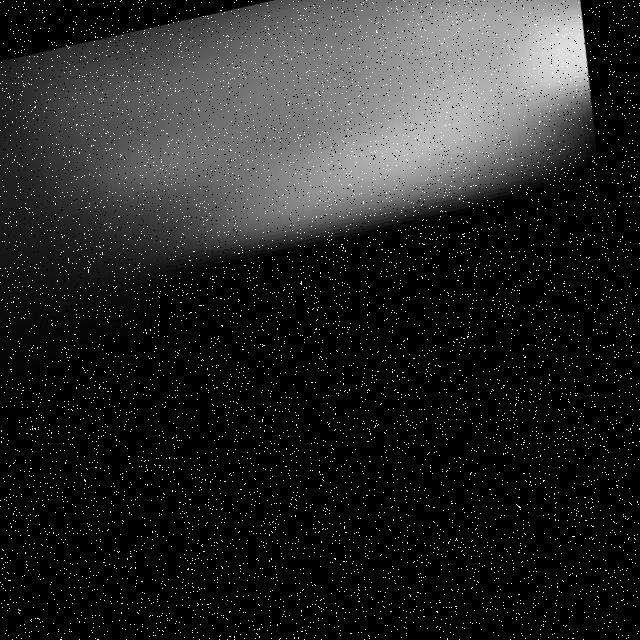person: (34, 1, 622, 305)
